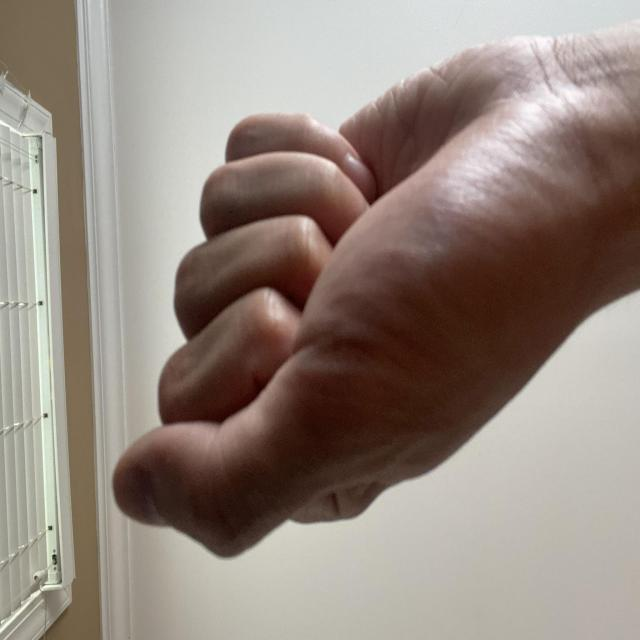A: (53, 137, 480, 640)
